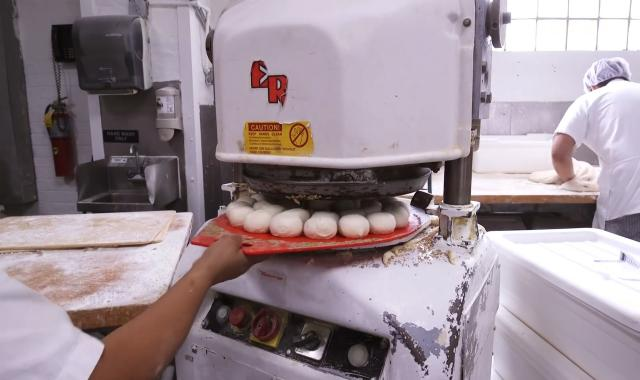hairnet: (583, 55, 634, 86)
